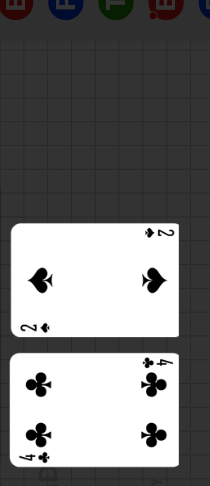2S: (142, 226, 176, 240)
4C: (19, 449, 53, 464)
